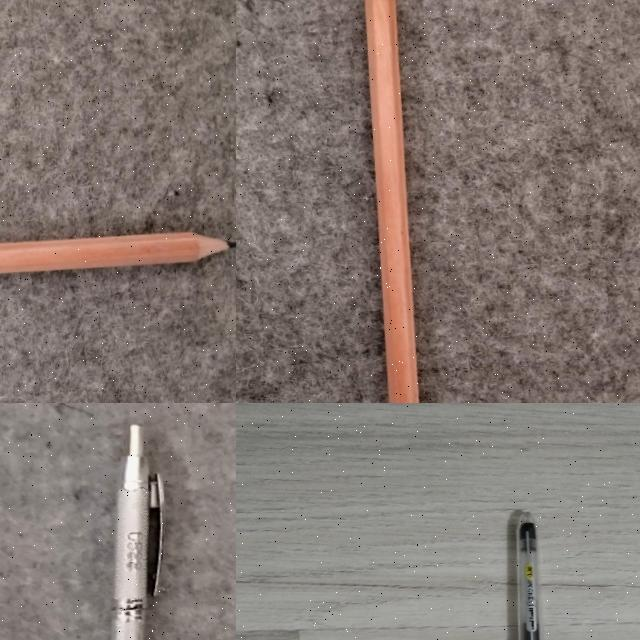pen: (517, 513, 542, 639)
pencil: (365, 0, 419, 402), (0, 233, 235, 273)
signature pen: (113, 425, 164, 639)
